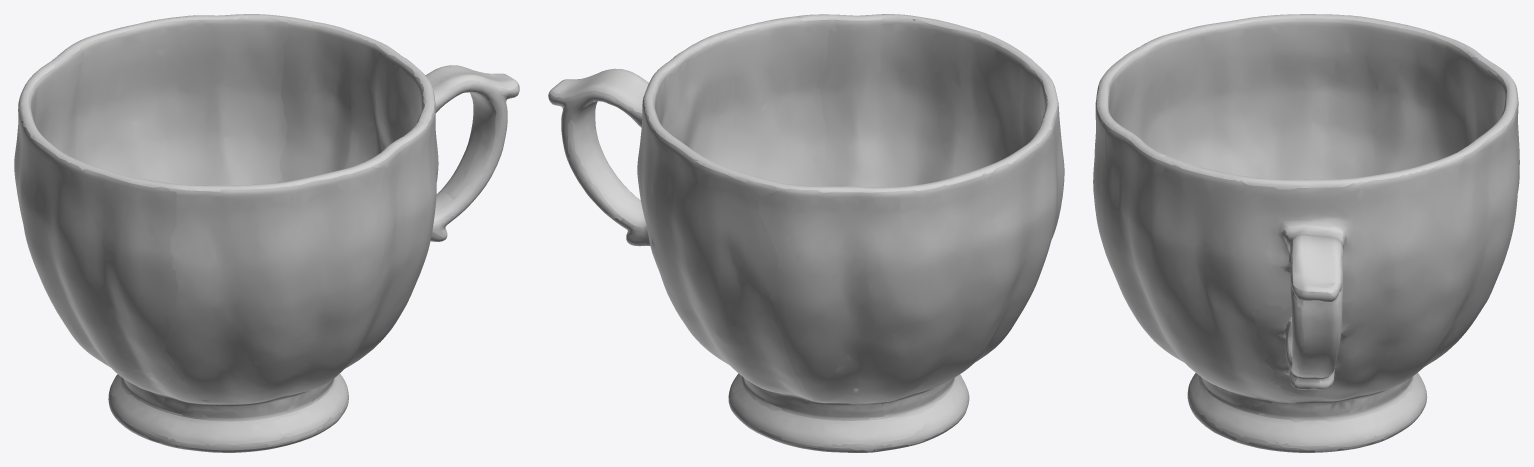
Rendered from white.glb.
The picture shows the model from 3 angles, left to right: view 1: azimuth 30°, elevation 25°; view 2: azimuth 150°, elevation 25°; view 3: azimuth 270°, elevation 25°; orthographic projection.
Parts seen in each view (by area): view 1: demo_textured.obj; view 2: demo_textured.obj; view 3: demo_textured.obj.
Boxes of the visible parts, x1=… form: demo_textured.obj: x1=14, y1=14, x2=519, y2=452; demo_textured.obj: x1=548, y1=14, x2=1064, y2=452; demo_textured.obj: x1=1093, y1=14, x2=1519, y2=452.
Size of the model in its own units: 1.98 by 1.23 by 1.54.
Materials: 1 (1 with a texture image).
